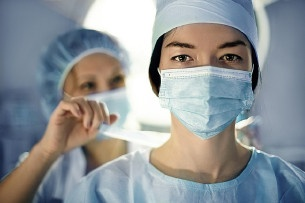Mask: (155, 34, 255, 134)
